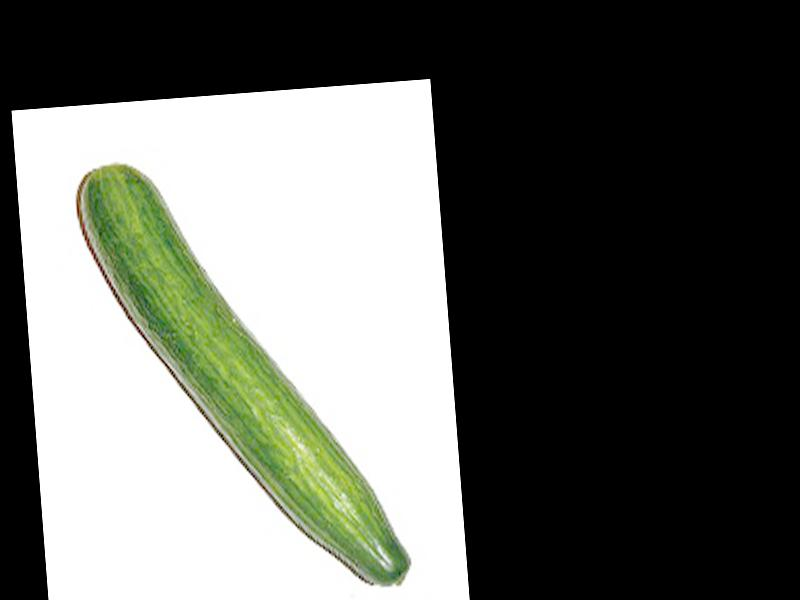Cucumber: (74, 144, 412, 600)
